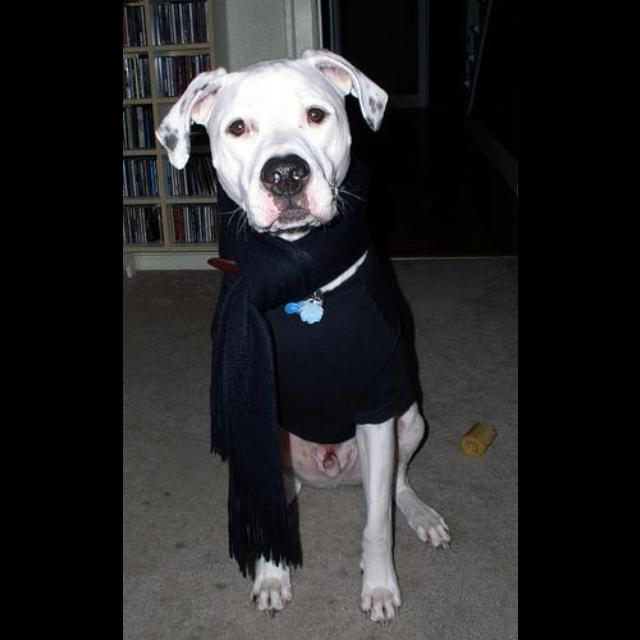amstaff: (154, 48, 452, 627)
